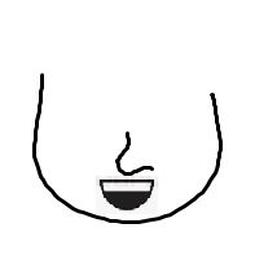nose: (111, 127, 159, 176)
open_mouth: (97, 174, 156, 213)
